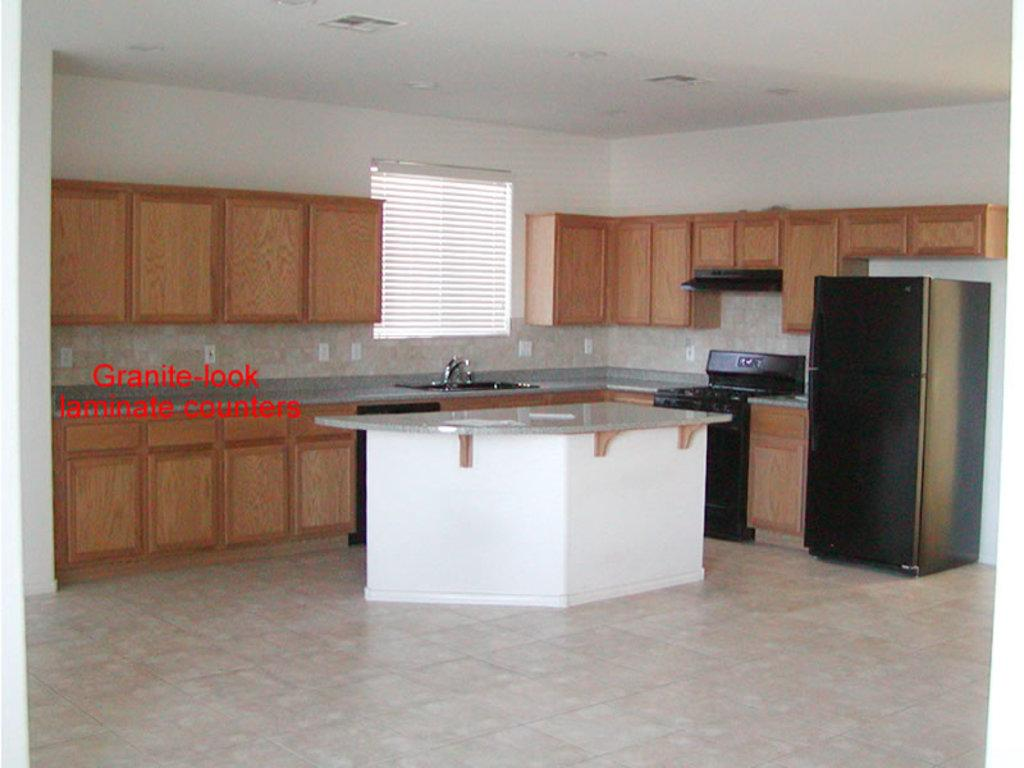cabinet_door: (128, 194, 222, 323), (223, 200, 311, 324), (54, 195, 130, 317), (310, 208, 380, 315), (150, 453, 216, 545), (74, 460, 136, 548), (748, 434, 806, 527), (226, 458, 290, 540), (300, 447, 358, 532), (557, 218, 604, 316), (610, 230, 652, 324), (652, 236, 694, 324), (908, 214, 982, 254), (786, 224, 814, 319), (838, 222, 914, 253), (734, 220, 784, 266), (692, 228, 737, 269)
handle: (809, 372, 823, 454), (808, 314, 823, 367)
